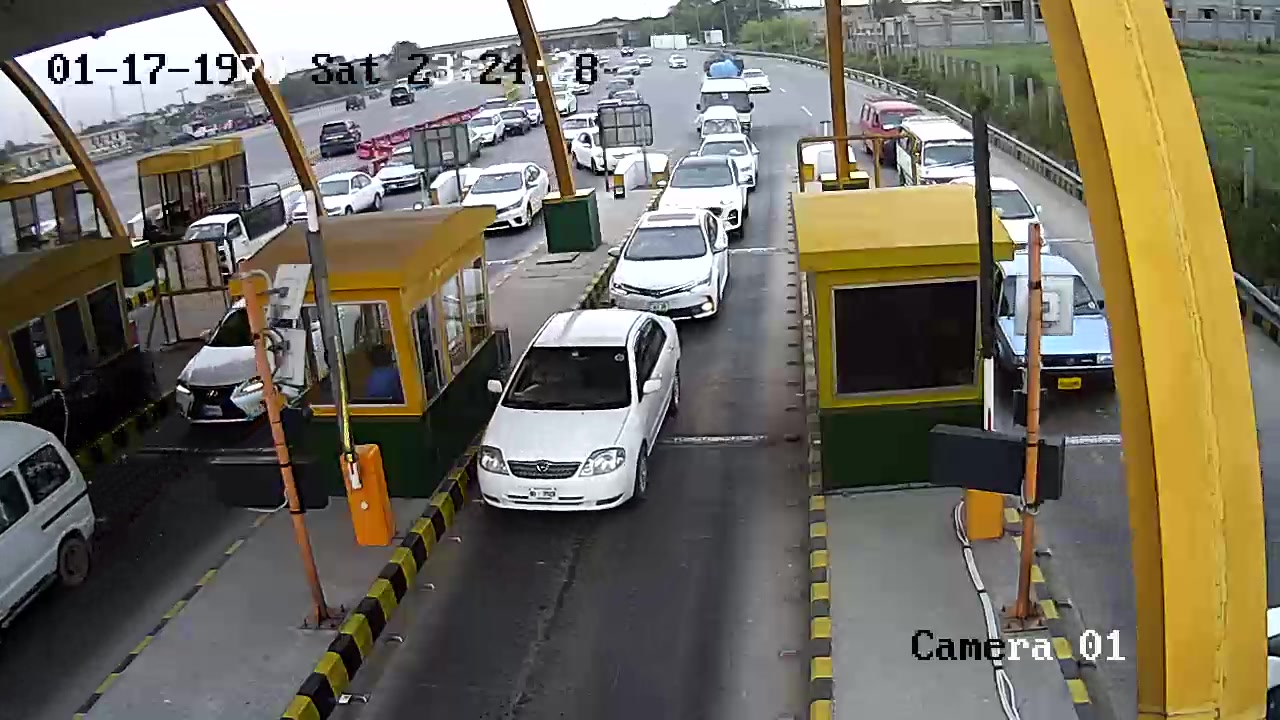F1: (471, 306, 686, 535)
